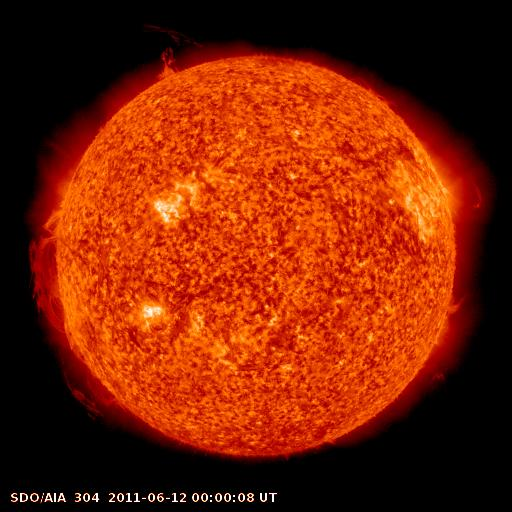prominence: (17, 231, 76, 338), (51, 345, 132, 422), (138, 19, 217, 84), (433, 159, 508, 217), (439, 282, 480, 339)
